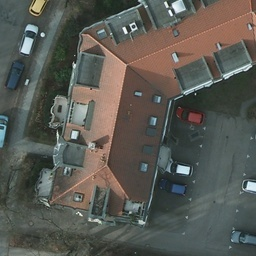car: (18, 23, 37, 58), (174, 105, 204, 125), (1, 112, 17, 146), (166, 158, 194, 177), (158, 178, 186, 197), (6, 61, 24, 90), (230, 229, 256, 247), (241, 175, 256, 194), (29, 1, 48, 15)
